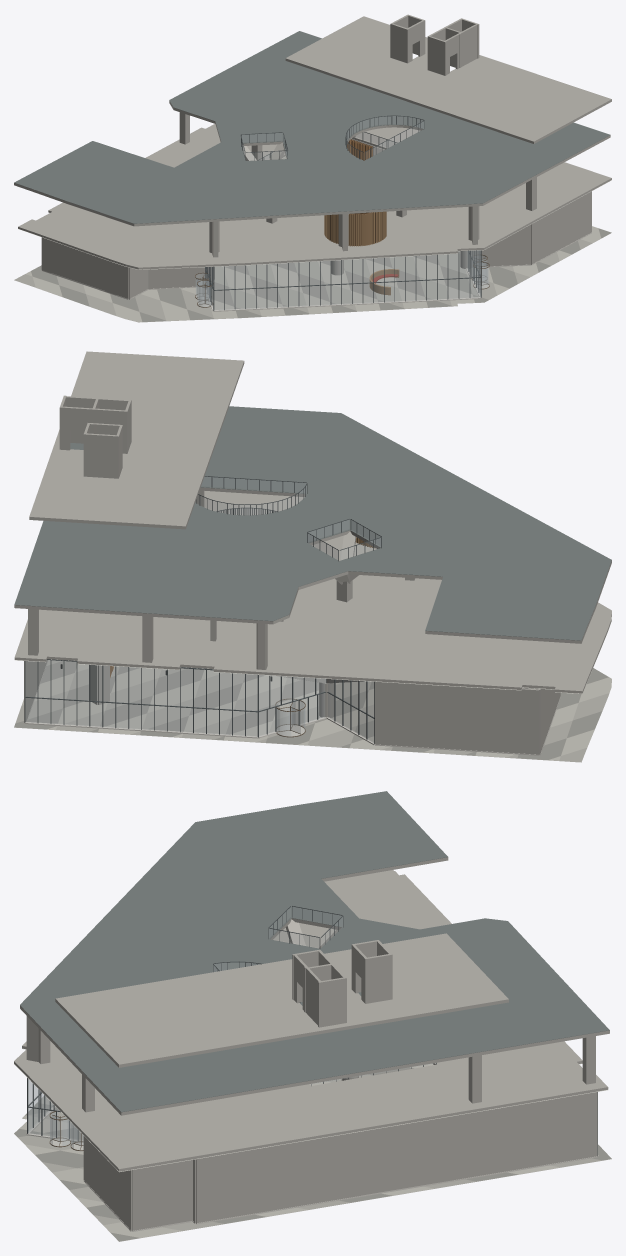
File: mar-interior-7744bd290a21.glb
3 renders of one model, top to bottom at view 1: azimuth 30°, elevation 25°; view 2: azimuth 150°, elevation 25°; view 3: azimuth 270°, elevation 25°, orthographic. The views are drawn at different scales.
Parts seen in each view (by area): view 1: MAR.001; view 2: MAR.001; view 3: MAR.001.
Part boxes in pixels (x1,y1,x2,y2): MAR.001: (14,14,611,322); MAR.001: (14,351,611,762); MAR.001: (14,791,611,1241).
Size of the model in its own units: 67.69 by 21.83 by 53.21.
